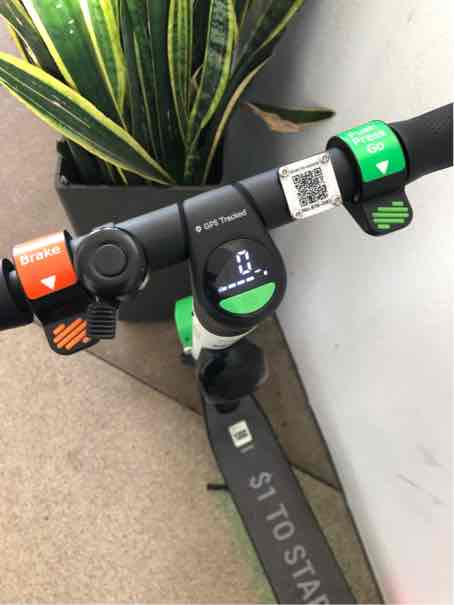scooter: (6, 112, 442, 605)
